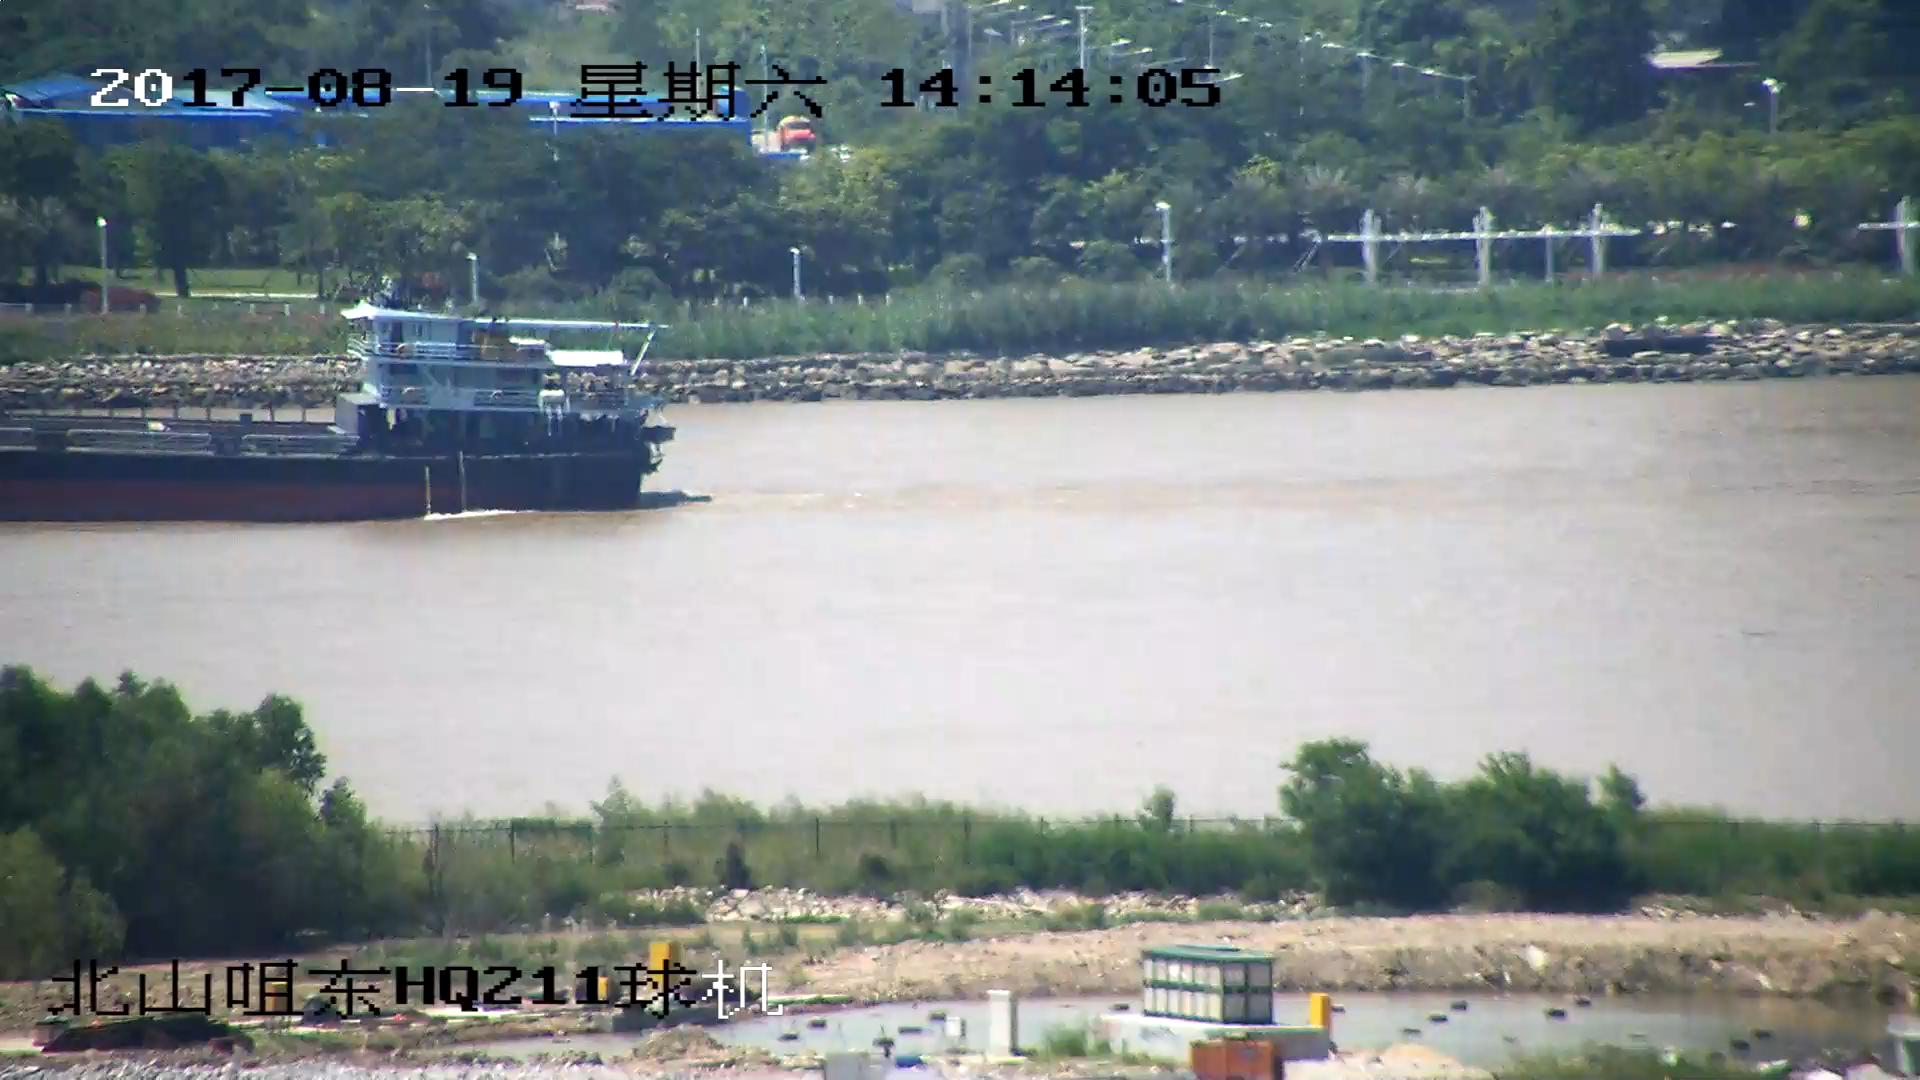bulk cargo carrier: (1, 292, 661, 520)
